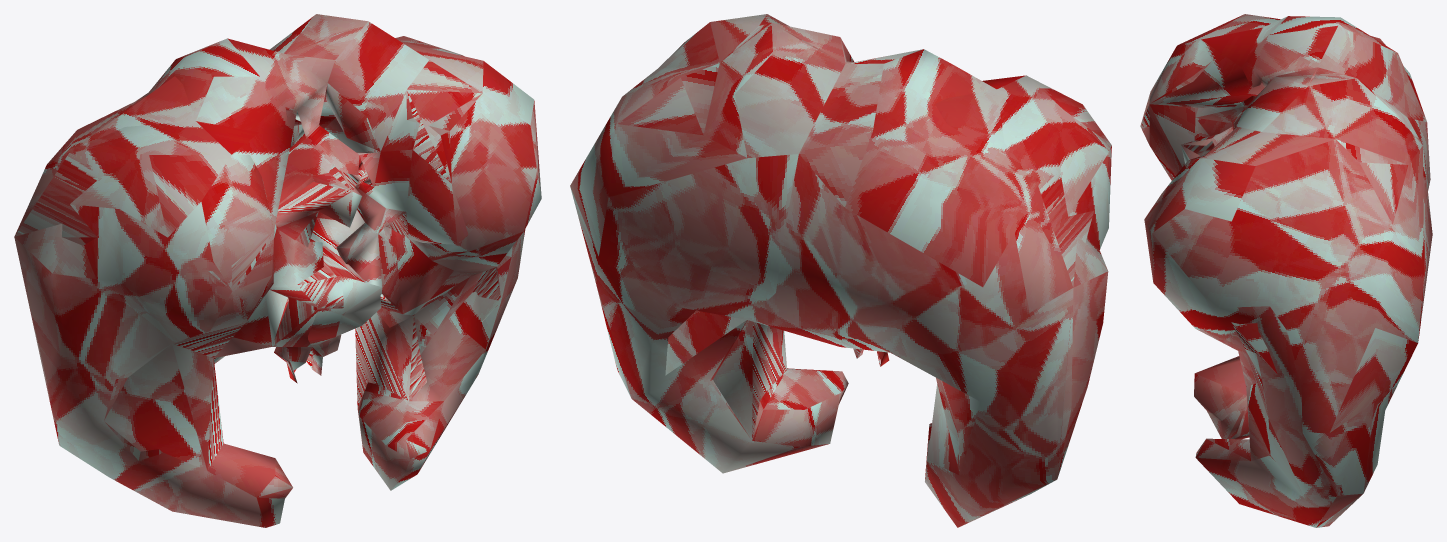
The model's file is item_squishy_gold_armstrong.glb.
3 views of the same model, side by side, from view 1: azimuth 30°, elevation 25°; view 2: azimuth 150°, elevation 25°; view 3: azimuth 270°, elevation 25° (orthographic). The views are drawn at different scales.
Visible parts, largest first — view 1: toy_armstrong; view 2: toy_armstrong; view 3: toy_armstrong.
Part boxes in pixels (bbox=[...]): toy_armstrong: bbox=[14, 14, 541, 527]; toy_armstrong: bbox=[570, 14, 1111, 527]; toy_armstrong: bbox=[1140, 14, 1432, 527].
Bounding box in the file's own units: 0.3817 × 0.3288 × 0.2051.
1 material, 1 textured.
